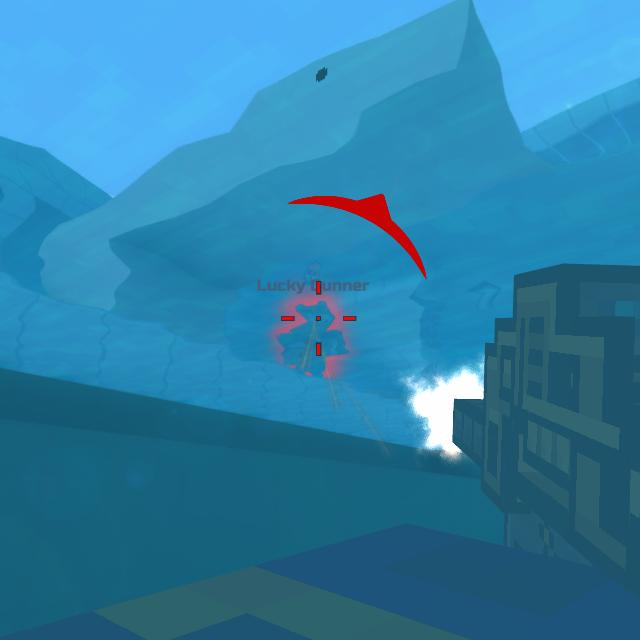Enemy: (277, 301, 347, 378)
